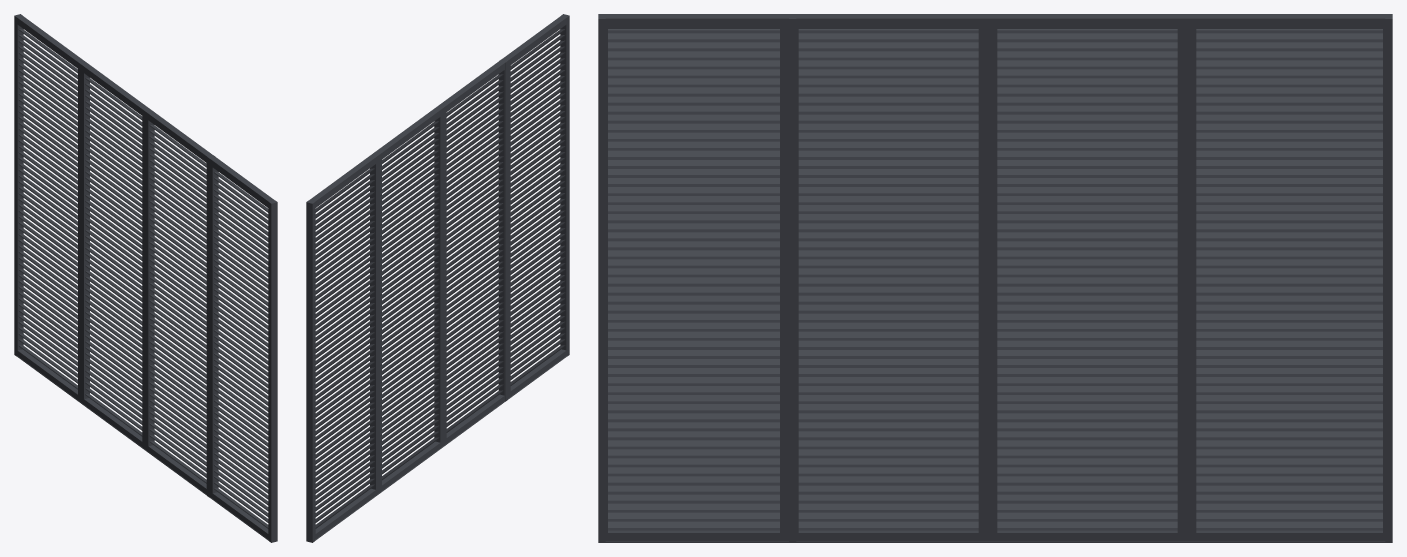
File: nebbiolo_louvre_panel_right_600_350.glb
3 renders of one model, left to right at view 1: azimuth 30°, elevation 25°; view 2: azimuth 150°, elevation 25°; view 3: azimuth 270°, elevation 25°, orthographic. The views are drawn at different scales.
Parts seen in each view (by area): view 1: louvre_panel_right_600_350; view 2: louvre_panel_right_600_350; view 3: louvre_panel_right_600_350.
Boxes of the visible parts, <box> form: louvre_panel_right_600_350: <box>14,14,277,542</box>; louvre_panel_right_600_350: <box>306,14,569,542</box>; louvre_panel_right_600_350: <box>598,14,1392,542</box>.
Size of the model in its own units: 0.0531 by 2.5 by 3.44.
1 material, 1 textured.
